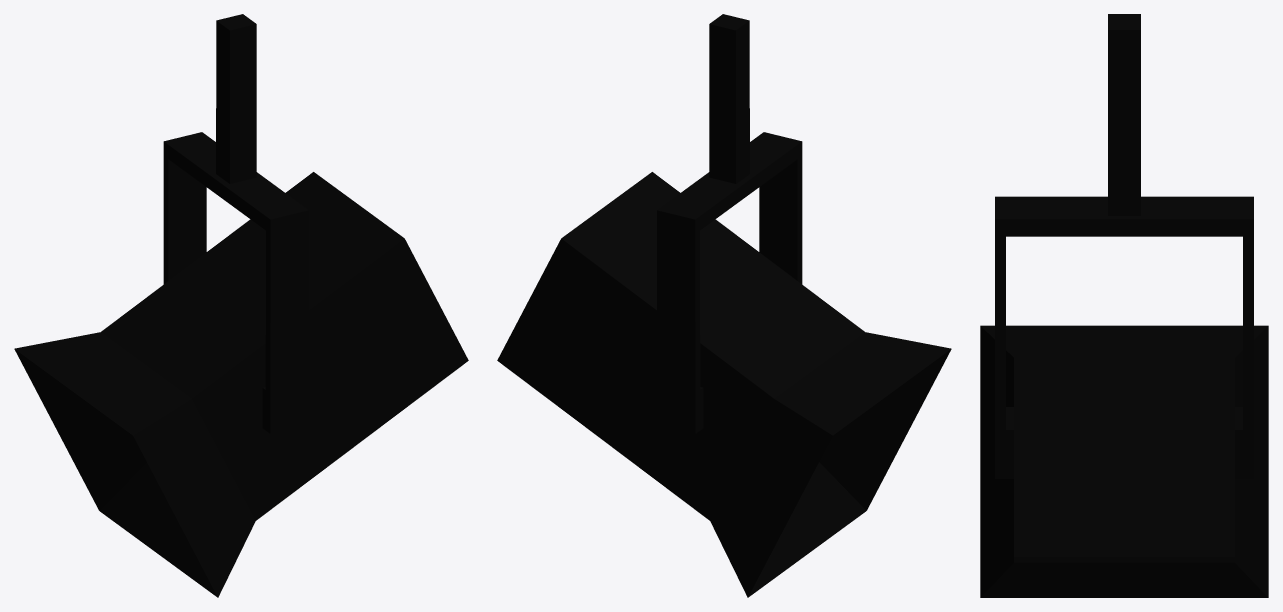
File: spotlight.FBX
3 views of the same model, side by side, from view 1: azimuth 30°, elevation 25°; view 2: azimuth 150°, elevation 25°; view 3: azimuth 270°, elevation 25° (orthographic). The views are drawn at different scales.
Parts seen in each view (by area): view 1: spotlight; view 2: spotlight; view 3: spotlight.
Boxes of the visible parts, bbox=[...] form: spotlight: bbox=[14, 14, 468, 597]; spotlight: bbox=[497, 14, 951, 597]; spotlight: bbox=[980, 14, 1268, 597].
Bounding box in the file's own units: 19.77 × 27.73 × 11.64.
1 material, 1 textured.
